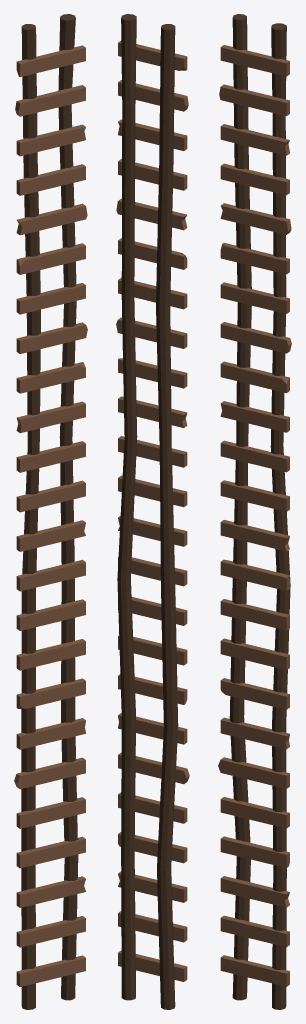
Rendered from Ladder.fbx.
3 views of the same model, side by side, from view 1: azimuth 30°, elevation 25°; view 2: azimuth 150°, elevation 25°; view 3: azimuth 330°, elevation 25° (orthographic).
Parts seen in each view (by area): view 1: Ladder; view 2: Ladder; view 3: Ladder.
Part boxes in pixels (left/top/right/bottom): Ladder: left=14, top=14, right=87, bottom=1009; Ladder: left=116, top=14, right=189, bottom=1009; Ladder: left=218, top=14, right=291, bottom=1009.
Size of the model in its own units: 53.56 by 713 by 14.68.
